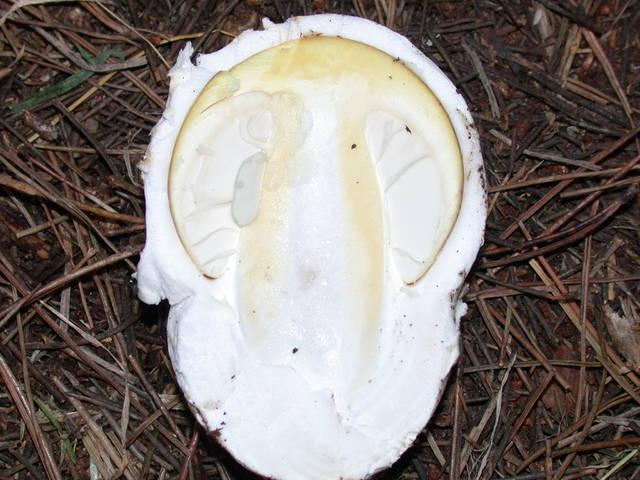edible_mushroom: (134, 12, 489, 478)
